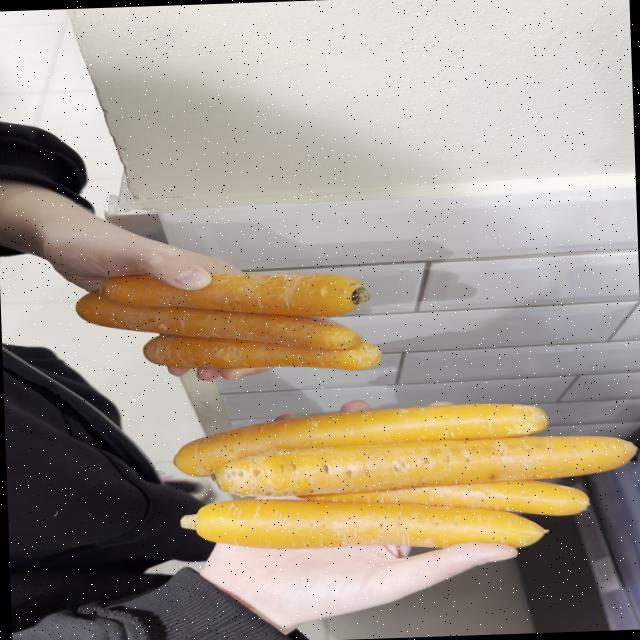carrot: (173, 402, 547, 476), (212, 435, 636, 496), (181, 499, 544, 549), (75, 290, 358, 350), (98, 272, 368, 316), (300, 480, 587, 516), (142, 334, 381, 370)
